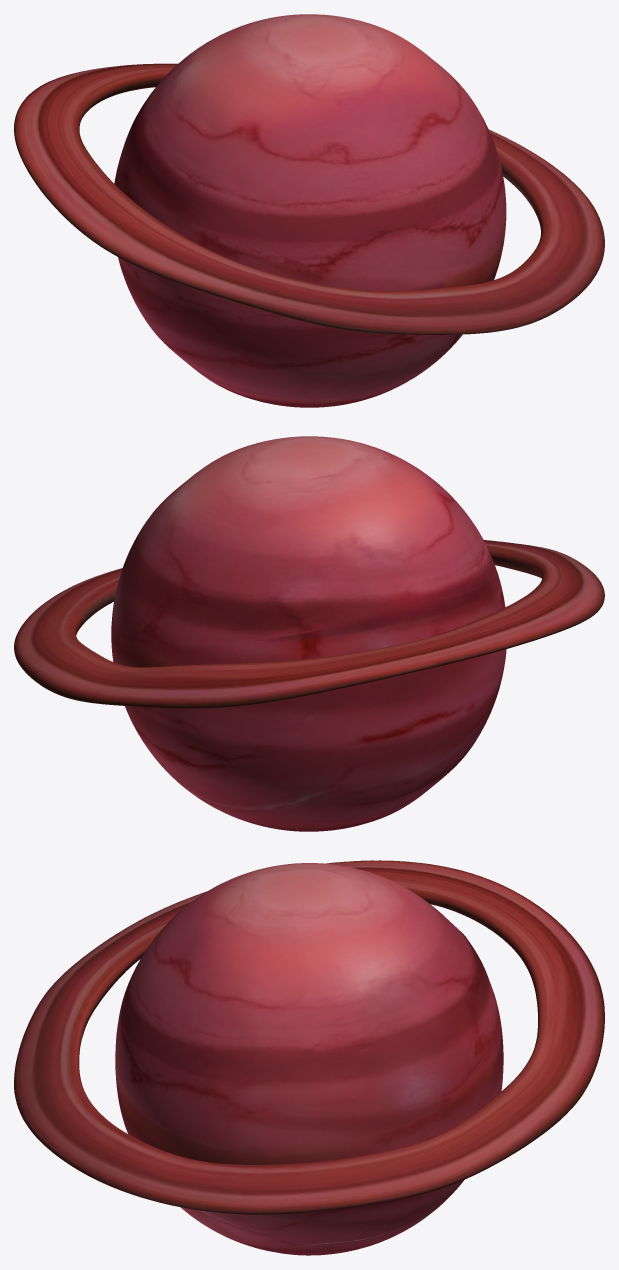
The model's file is Pianeta.glb.
3 views of the same model, one above another, from view 1: azimuth 30°, elevation 25°; view 2: azimuth 150°, elevation 25°; view 3: azimuth 270°, elevation 25° (orthographic).
Bounding box in the file's own units: 1.89 × 1.25 × 1.9.
1 material, 1 textured.
